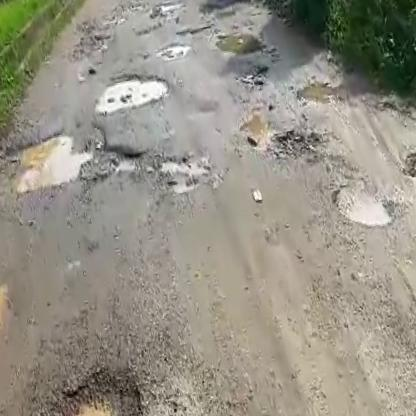pothole: (0, 115, 139, 201), (0, 353, 175, 416), (329, 168, 398, 240), (88, 63, 172, 113), (295, 70, 349, 113), (157, 39, 193, 59)
